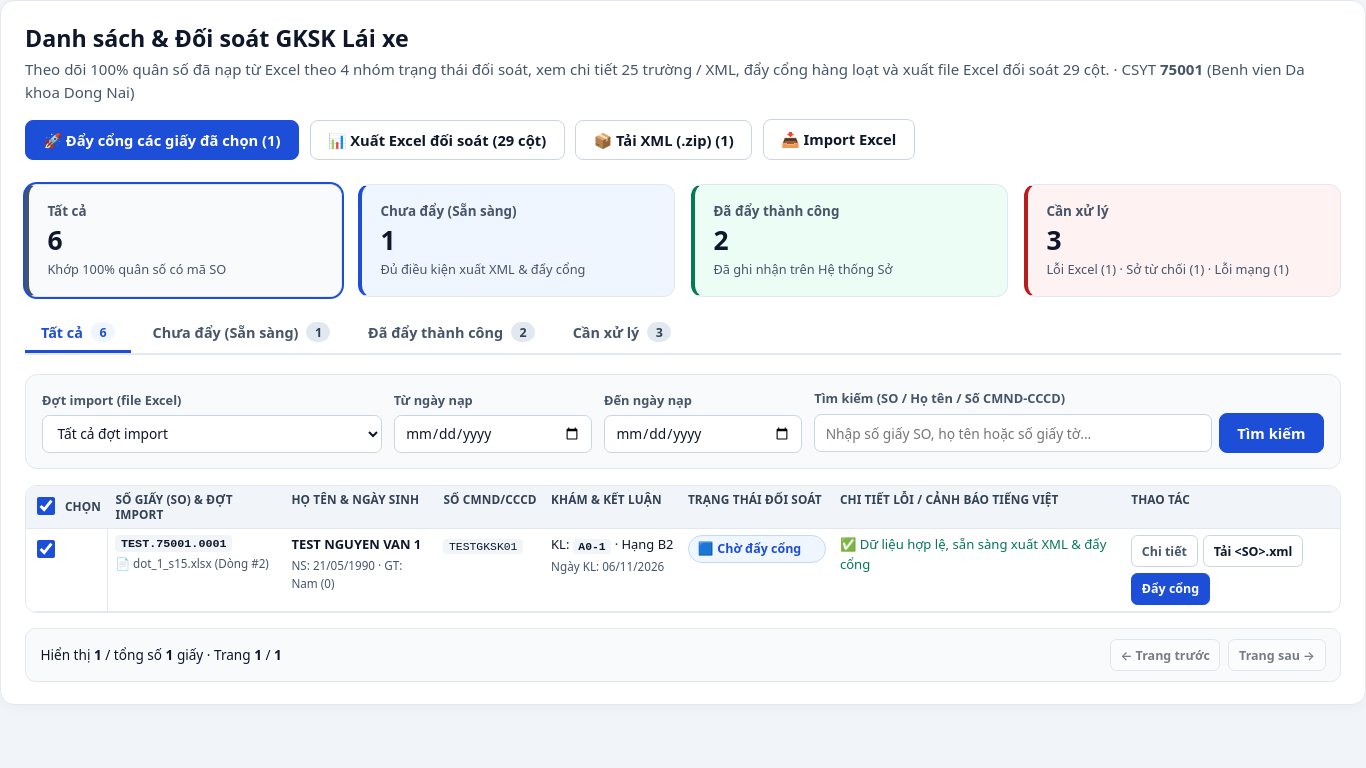
S16 — Đẩy cổng hàng loạt, Ngăn trượt (Drawer) Chi tiết 25 trường, Xem trước XML & Gửi lại giữ nguyên msg_id › 8. Chế độ APP_ENV=production hiển thị hộp cảnh báo đỏ và bắt buộc tick xác nhận trước khi cho phép đẩy cổng
This screenshot has width=1366, height=768.
Later steps or results of the test are not shown.
Check: the table with test id "reconcile-table" is shown, box [26,486,1340,612]
Click the button with test id "batch-send-btn" at [162, 140], box [25,120,299,160]
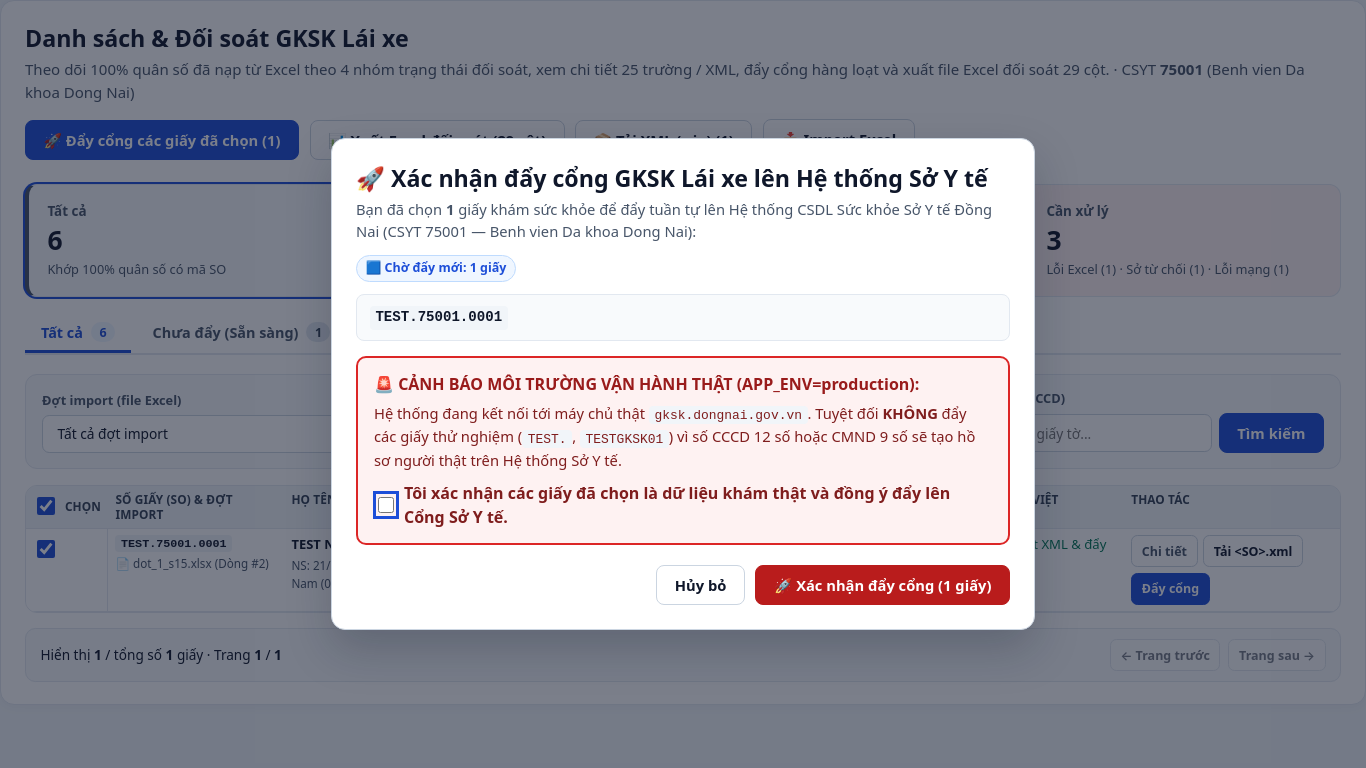
Check: the message with test id "prod-send-warning" is shown, box [356,356,1010,545]
Check: the button with test id "confirm-batch-send-btn" is disabled, box [755,565,1010,605]
